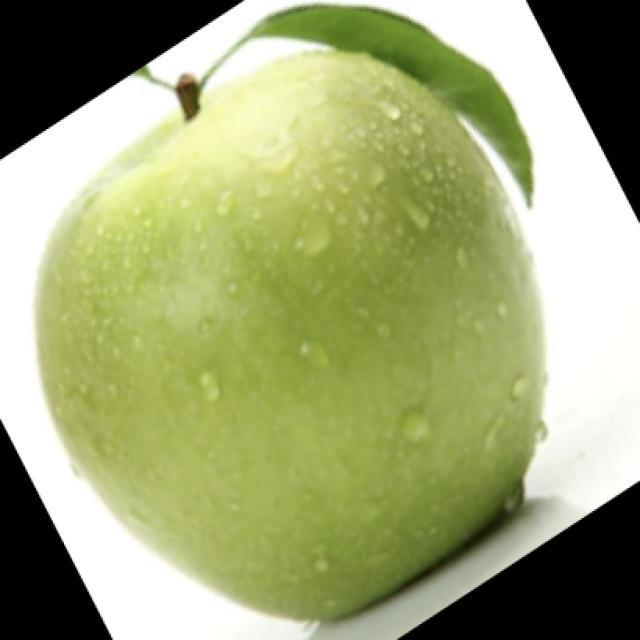Fresh Apple: (56, 63, 542, 610)
